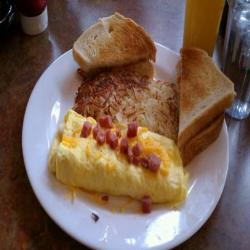bread: (169, 38, 234, 171), (66, 12, 164, 79)
omelette: (47, 113, 199, 213)
